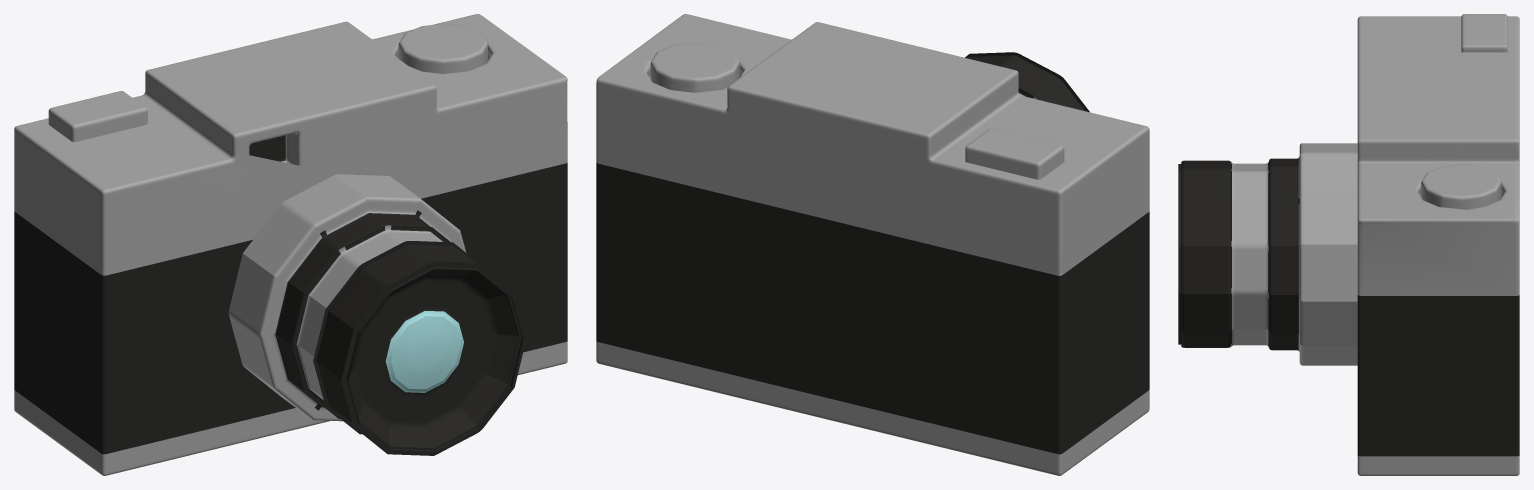
Rendered from activities_Camera.fbx.
3 renders of one model, left to right at view 1: azimuth 30°, elevation 25°; view 2: azimuth 150°, elevation 25°; view 3: azimuth 270°, elevation 25°, orthographic. The views are drawn at different scales.
Visible parts, largest first — view 1: Cube.001; view 2: Cube.001; view 3: Cube.001.
Boxes of the visible parts, x1,y1,x2,y2 form: Cube.001: (14, 14, 567, 475); Cube.001: (596, 14, 1149, 475); Cube.001: (1178, 14, 1519, 475).
Size of the model in its own units: 341 by 217 by 241.
